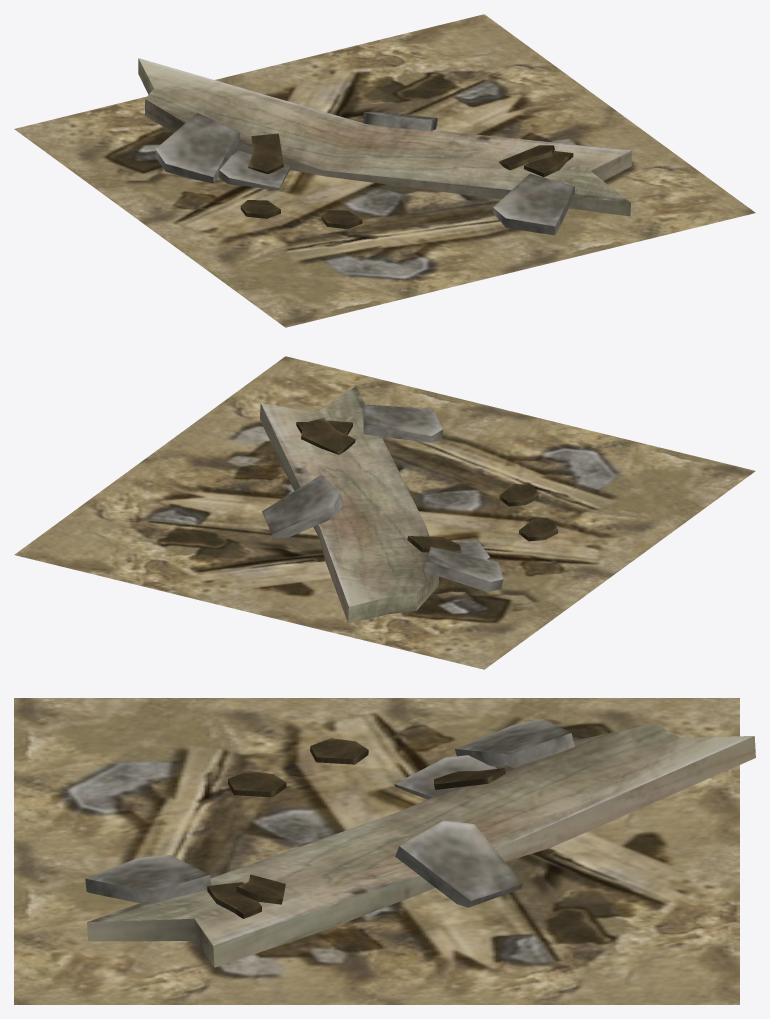
Rendered from pir_m_prp_spn_debris_stuccoA.fbx.
3 renders of one model, top to bottom at view 1: azimuth 30°, elevation 25°; view 2: azimuth 150°, elevation 25°; view 3: azimuth 270°, elevation 25°, orthographic. The views are drawn at different scales.
Parts seen in each view (by area): view 1: debris, debris_boardA, polySurface1, polySurface4, polySurface2, polySurface8, polySurface3, polySurface5, polySurface6, polySurface7, polySurface9; view 2: debris, debris_boardA, polySurface3, polySurface4, polySurface1, polySurface6, polySurface7, polySurface9, polySurface8; view 3: debris, debris_boardA, polySurface3, polySurface4, polySurface1, polySurface2, polySurface9, polySurface7, polySurface5, polySurface6, polySurface8.
Part boxes in pixels (left/top/right/bottom): debris: left=14, top=14, right=755, bottom=327; debris_boardA: left=138, top=58, right=631, bottom=216; polySurface1: left=155, top=113, right=239, bottom=183; polySurface4: left=493, top=173, right=574, bottom=235; polySurface2: left=218, top=150, right=290, bottom=190; polySurface8: left=248, top=133, right=283, bottom=173; polySurface3: left=363, top=112, right=437, bottom=131; polySurface5: left=524, top=151, right=573, bottom=177; polySurface6: left=499, top=145, right=554, bottom=170; polySurface7: left=321, top=210, right=362, bottom=229; polySurface9: left=240, top=200, right=280, bottom=218; debris: left=14, top=356, right=755, bottom=669; debris_boardA: left=260, top=386, right=438, bottom=623; polySurface3: left=262, top=474, right=343, bottom=538; polySurface4: left=363, top=404, right=443, bottom=442; polySurface1: left=424, top=547, right=503, bottom=591; polySurface6: left=301, top=418, right=355, bottom=454; polySurface7: left=499, top=483, right=538, bottom=506; polySurface9: left=519, top=518, right=557, bottom=541; polySurface8: left=407, top=536, right=460, bottom=553; debris: left=14, top=698, right=739, bottom=1004; debris_boardA: left=87, top=723, right=755, bottom=967; polySurface3: left=395, top=820, right=522, bottom=907; polySurface4: left=85, top=855, right=211, bottom=903; polySurface1: left=455, top=719, right=574, bottom=768; polySurface2: left=394, top=755, right=496, bottom=799; polySurface9: left=310, top=738, right=368, bottom=764; polySurface7: left=228, top=771, right=286, bottom=797; polySurface5: left=207, top=882, right=261, bottom=918; polySurface6: left=236, top=874, right=285, bottom=904; polySurface8: left=434, top=768, right=505, bottom=789.
Bounding box in the file's own units: 1074 × 99.52 × 1098.
2 materials, 2 textured.
